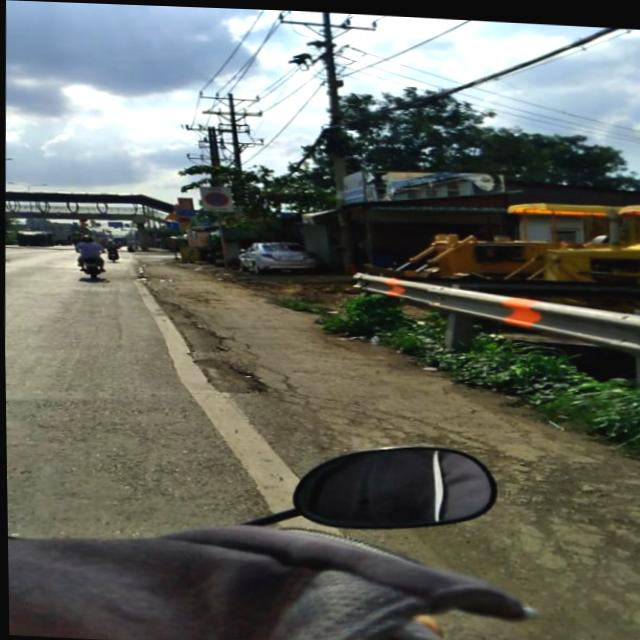Cam dung xe va do xe: (202, 189, 227, 205)
